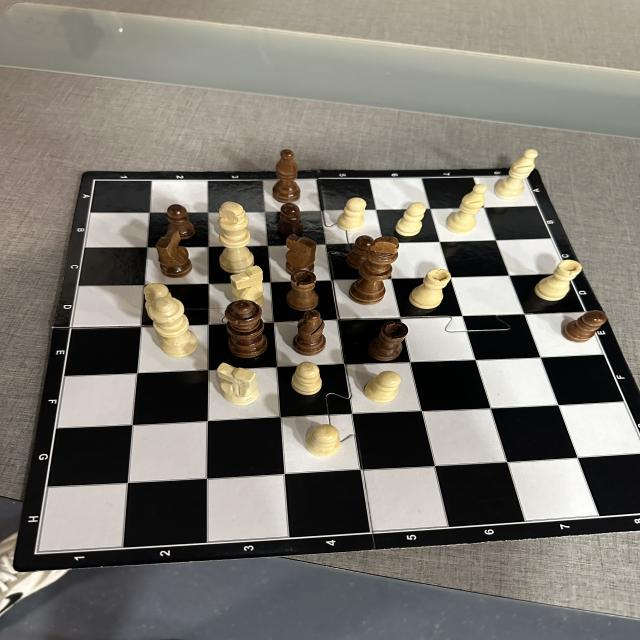Black-Bishop: (292, 310, 325, 356), (273, 150, 301, 202)
Black-King: (349, 237, 401, 305)
Black-Knight: (157, 231, 193, 278), (284, 235, 317, 275)
Black-Pawn: (563, 310, 607, 343), (166, 204, 196, 239), (348, 235, 373, 269), (278, 203, 302, 238)
Black-Queen: (227, 300, 267, 358)
Black-Rook: (366, 321, 409, 361), (286, 272, 319, 310)
White-Bishop: (494, 148, 538, 200), (446, 183, 487, 234)
White-King: (218, 201, 254, 274)
White-Knight: (217, 362, 260, 404), (231, 265, 265, 311)
White-Pawn: (305, 422, 340, 457), (364, 370, 401, 402), (143, 282, 172, 322), (395, 202, 427, 237), (291, 361, 322, 395), (336, 197, 366, 231)
White-Queen: (148, 298, 200, 357)
White-Rook: (535, 260, 581, 302), (410, 268, 451, 309)
